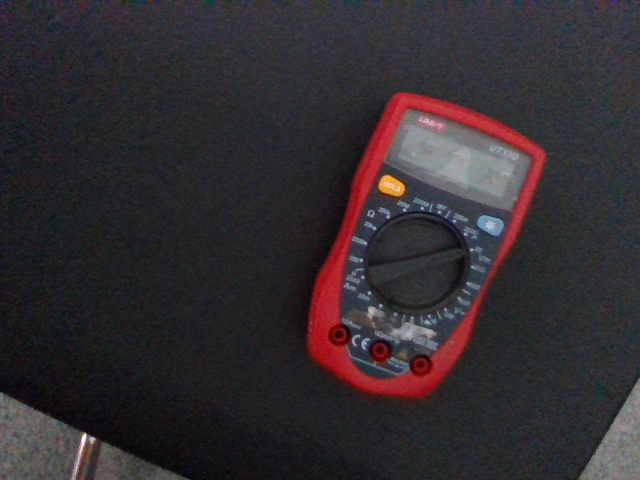multimeter: (306, 91, 549, 401)
